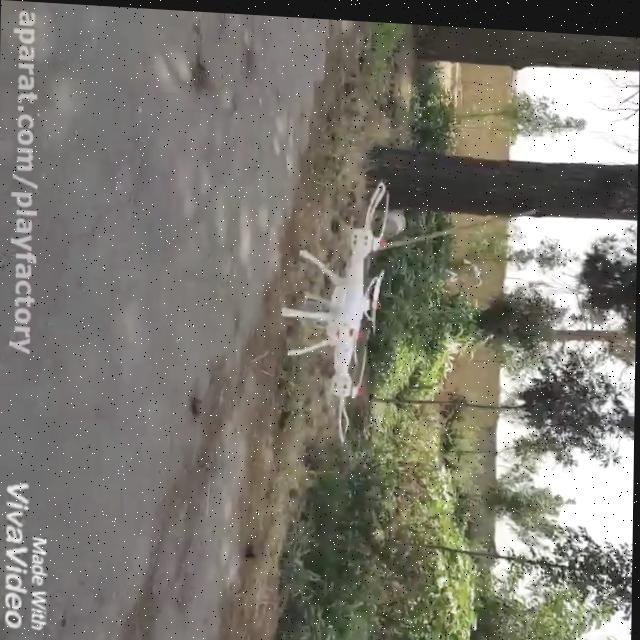drone: (280, 168, 391, 440)
